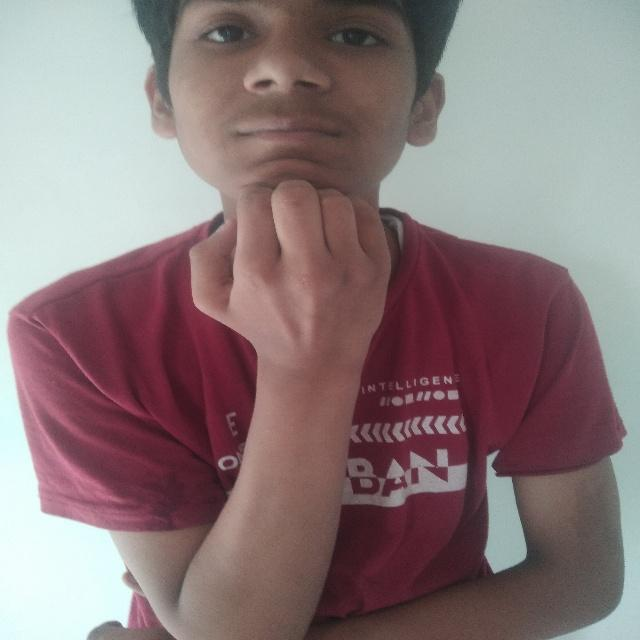Chin Flick: (127, 4, 459, 380)
